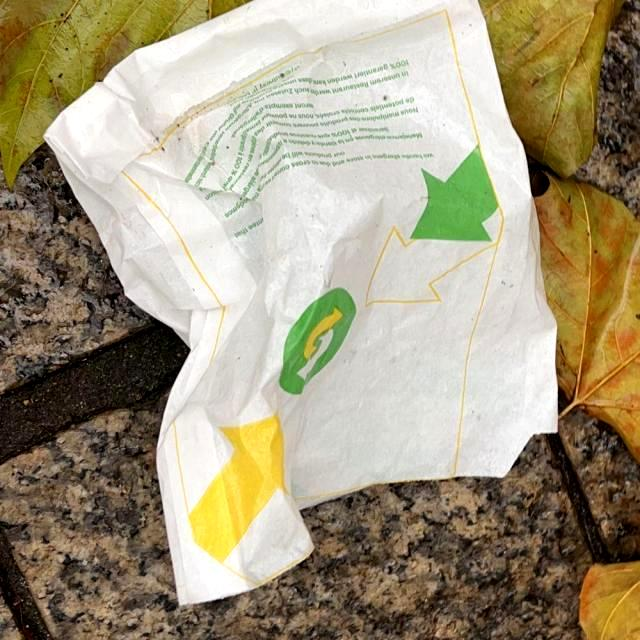Paper: (41, 0, 563, 608)
